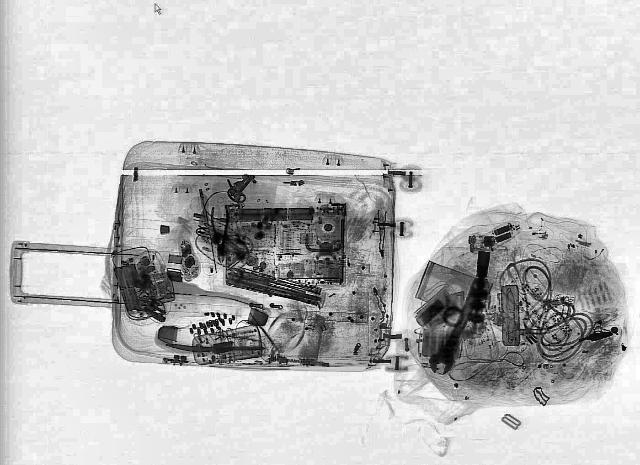Pliers: (210, 206, 230, 264)
Wrench: (423, 276, 492, 376)
